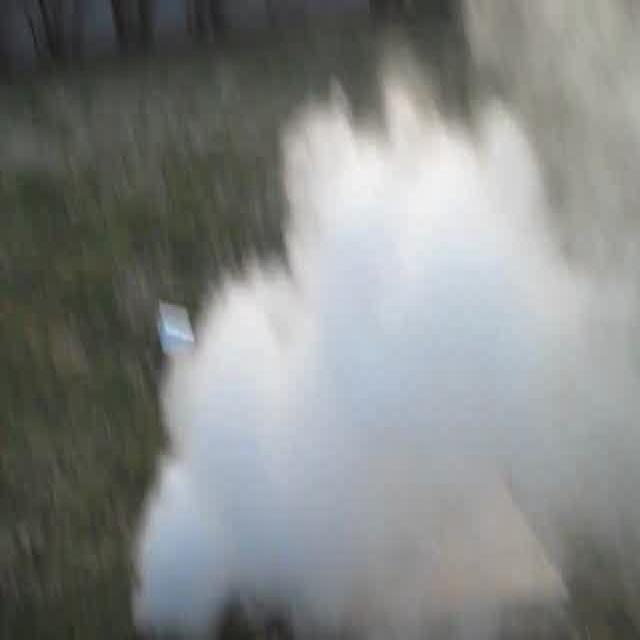Smoke: (157, 95, 634, 640)
